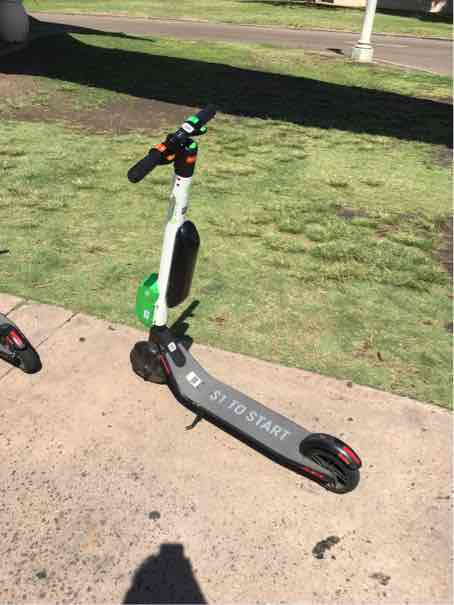scooter: (123, 87, 371, 497)
